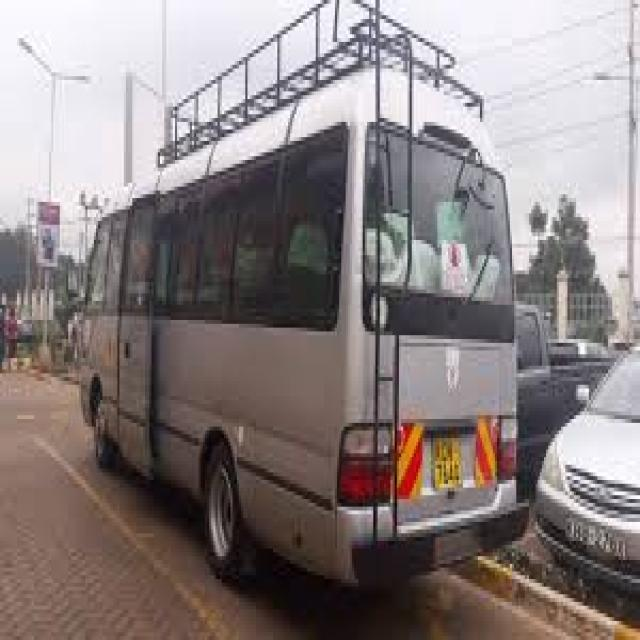bus: (41, 6, 536, 604)
